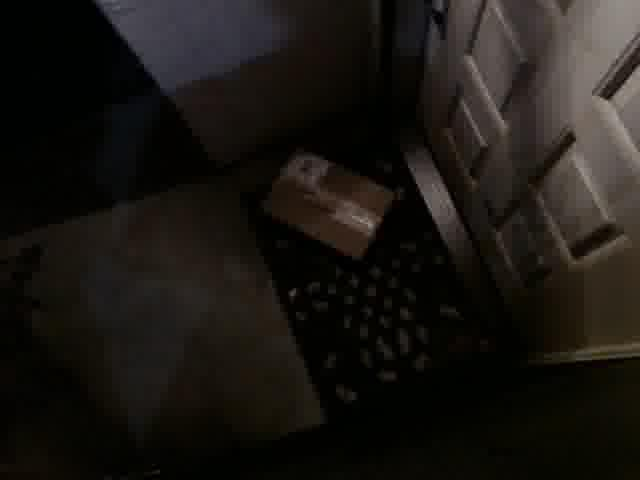box: (255, 147, 395, 260)
